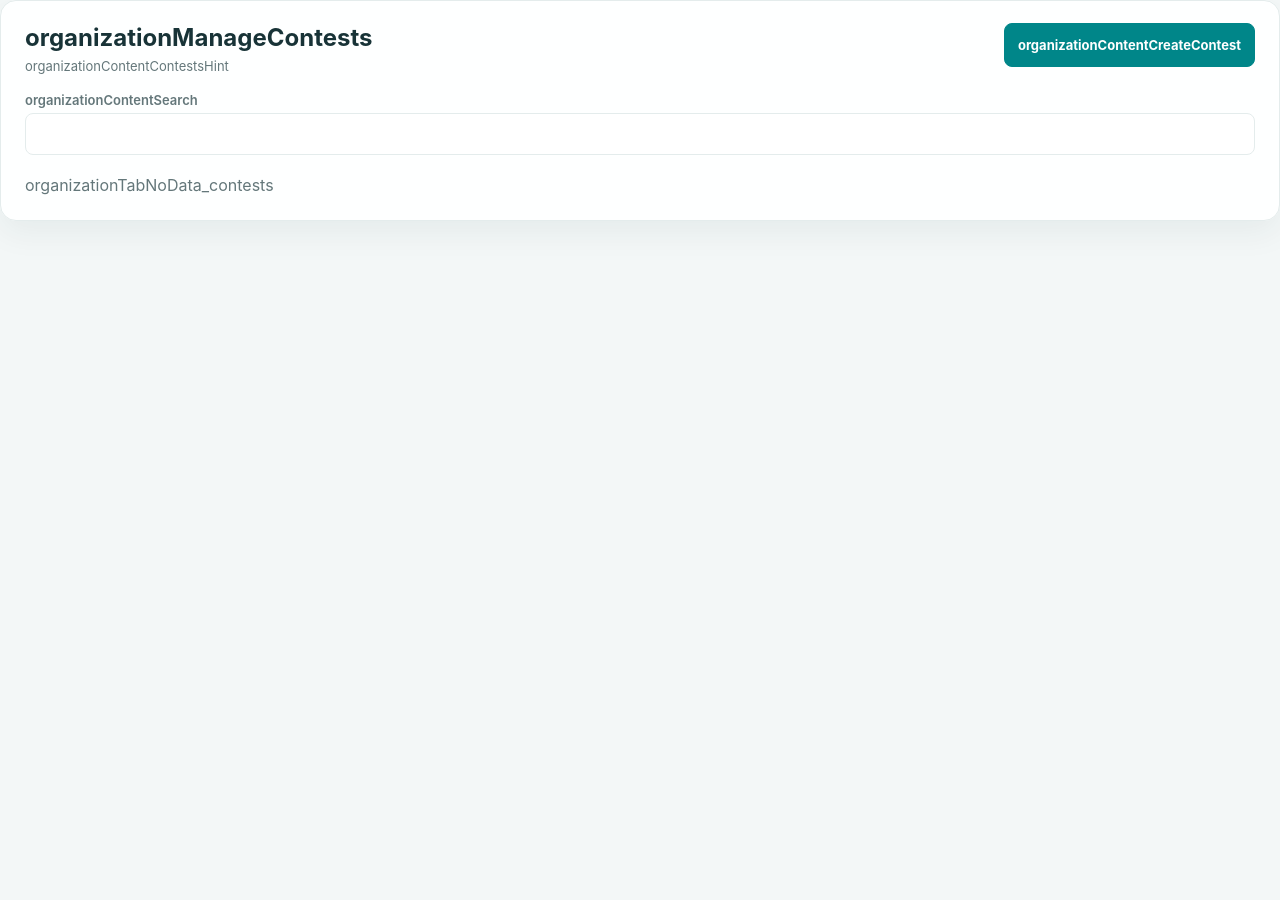
it: OrganizationContentPanel create interactions › uses the Admin detail contest-form layout and preserves date and problem selection controls
Click the button "organizationContentCreateContest" at {"x": 1129, "y": 45}, box [1004,23,1255,67]
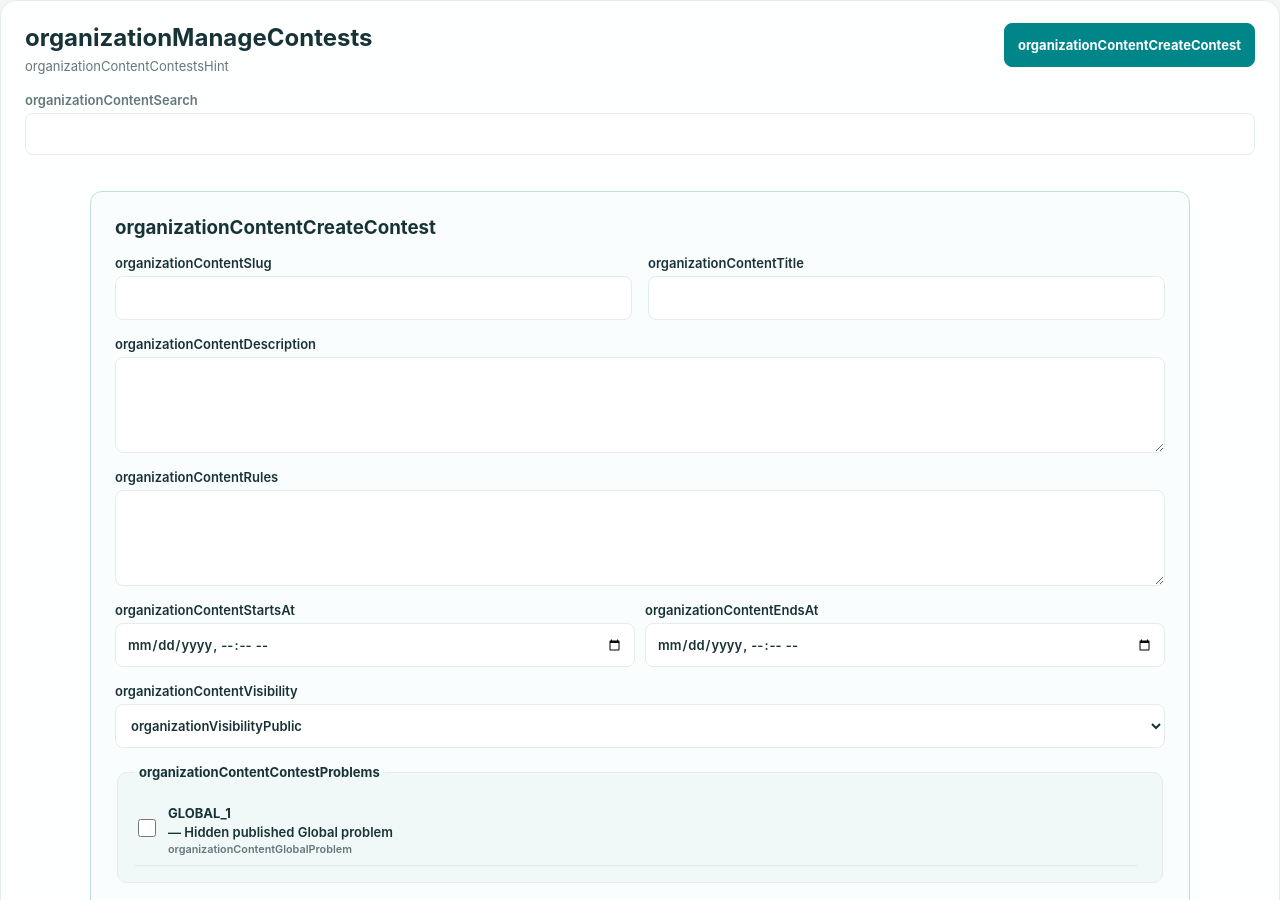
expect the text "organizationContentContestProblems" is shown: met, box [134,764,385,780]
expect the text "Hidden published Global problem" is shown: met, box [184,824,393,840]
expect the number of checkboxes is 1: met, box [138,807,156,849]
